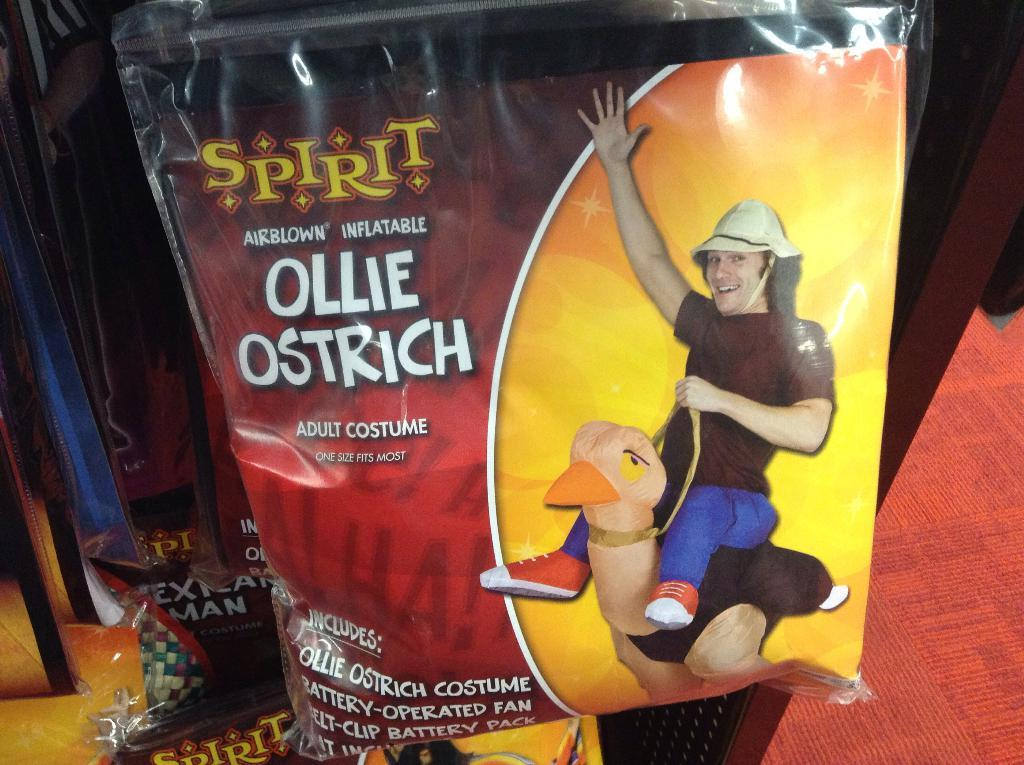Hat: (688, 195, 804, 312)
